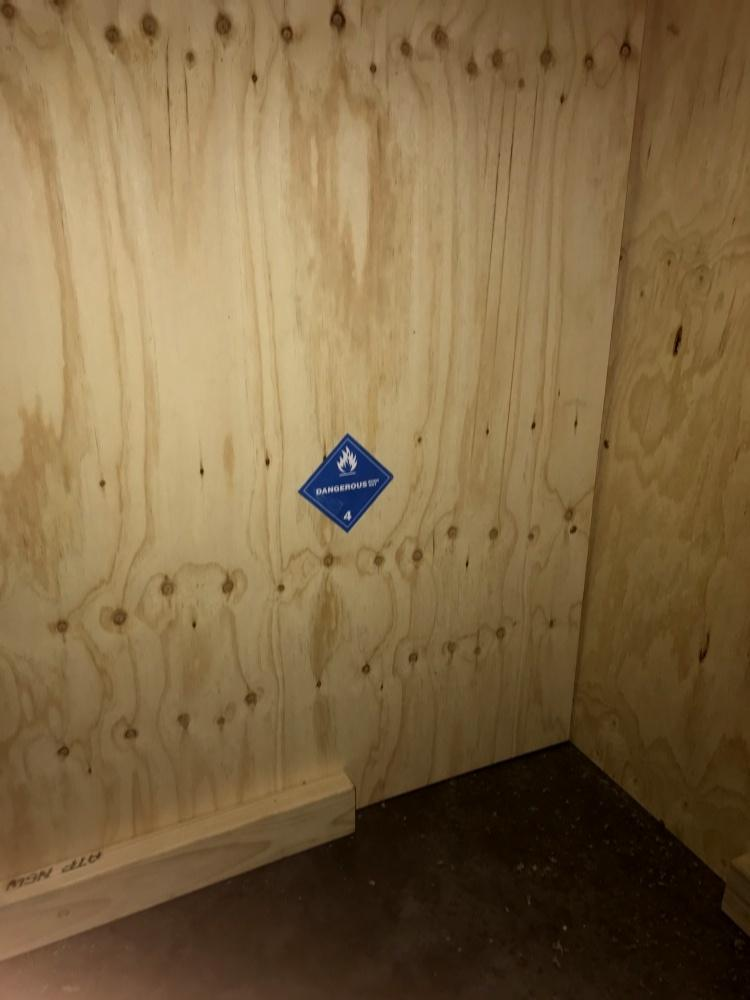dangerous-when-wet: (296, 433, 399, 536)
